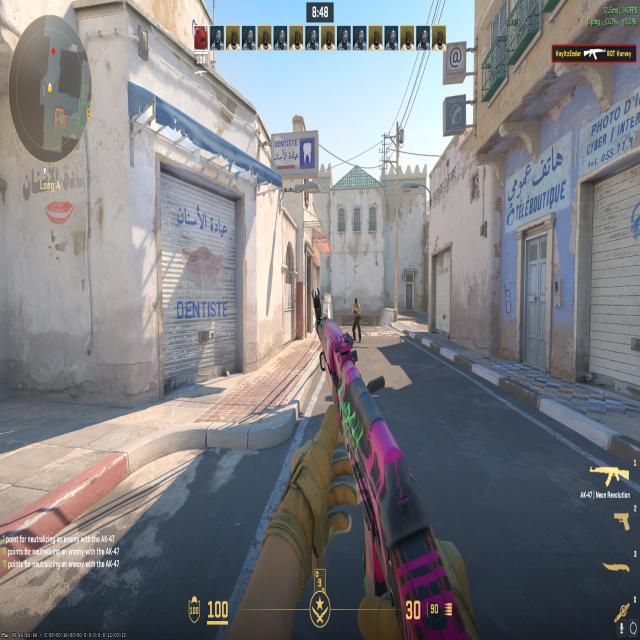t: (350, 293, 364, 343)
